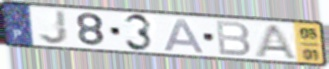3: (122, 13, 160, 53)
8: (75, 12, 107, 47)
A: (253, 24, 300, 61), (162, 18, 207, 55)
B: (214, 19, 253, 58)
J: (37, 9, 71, 46)
